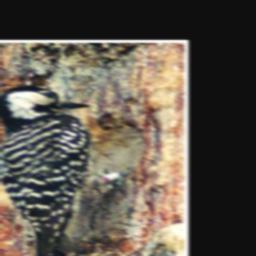Woodpecker: (0, 79, 139, 256)
